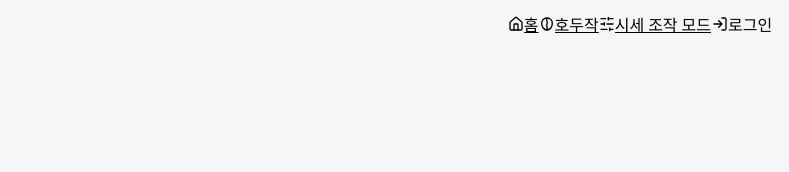
Test: AppNav 로그인 상태 › 로그인 전에는 로그인 버튼을 보여 주고, 누르면 지금 화면(주소와 state)을 돌아올 곳으로 넘긴다
Click the button "로그인" at x=742, y=24, box [712,12,772,36]
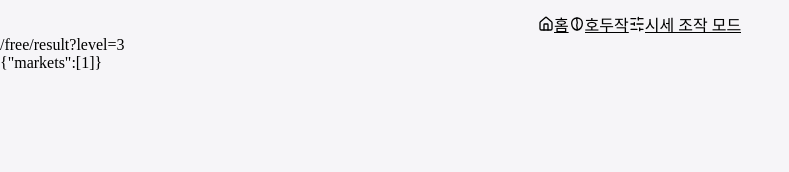
Expected: the text with test id "login-from" reads "/free/result?level=3", [0,36,124,53]
Expected: the text with test id "login-from-state" reads "{\"markets\":[1]}", [0,54,102,71]
Expected: the button "로그인" is gone
